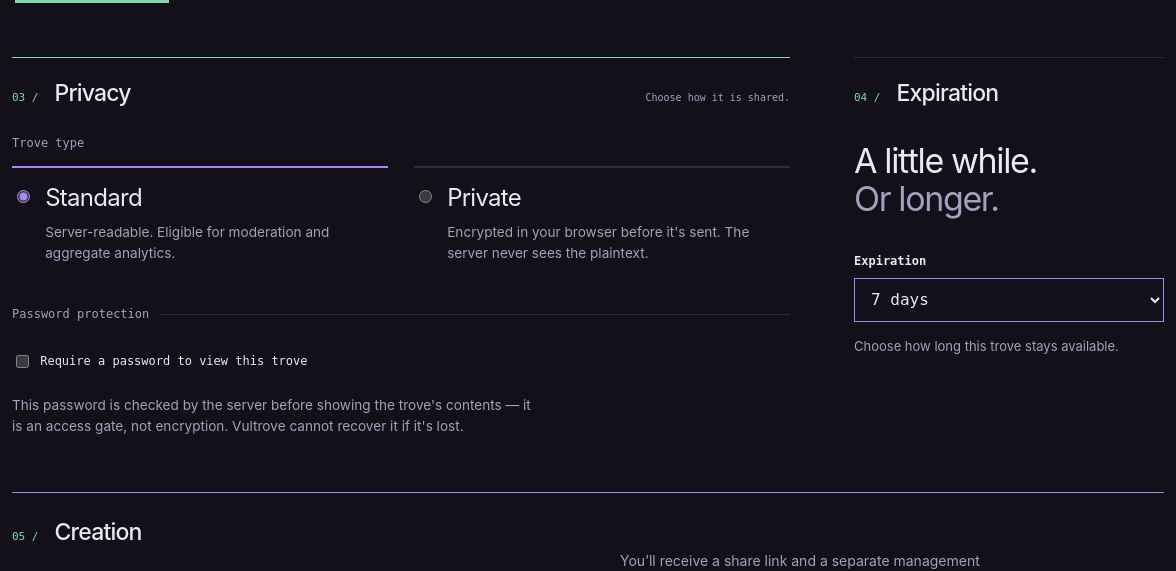
Test: password protection (create) › reveals the password field once the checkbox is checked
(page scrolled)
What coordinates should you click on to do the following:
click the checkbox labelled "Require a password to view this trove"
I would click on:
 (23, 361)
Its box is [16,355,29,368].
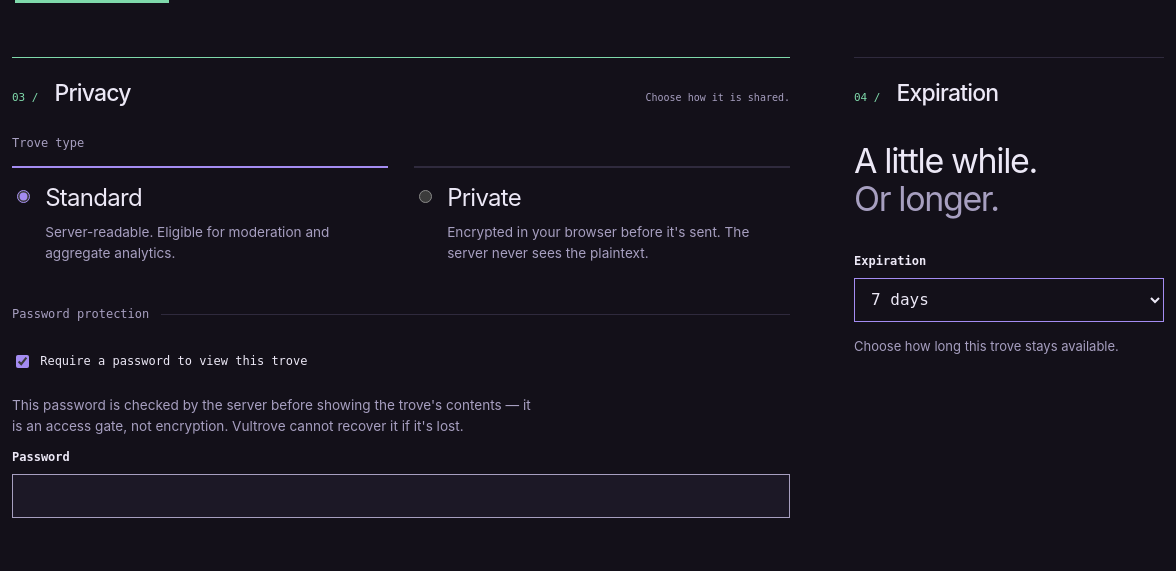
Expected: the password field labelled "Password" is shown, [12,474,790,518]
